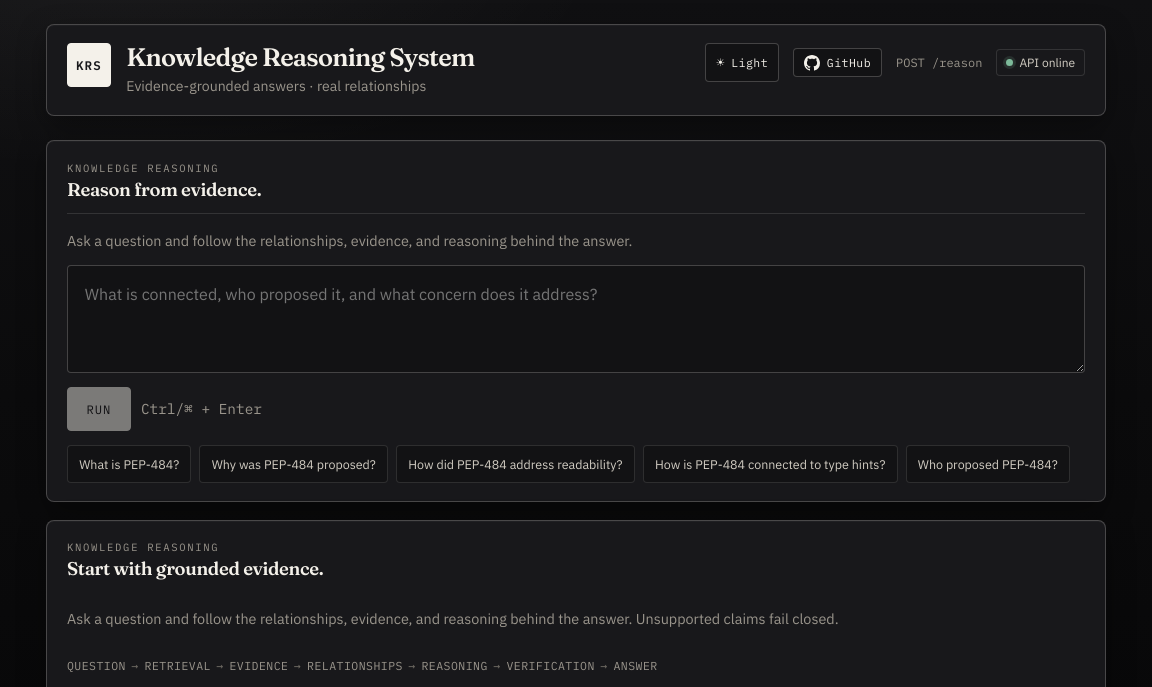
Knowledge Reasoning Web UI › A: successful grounded answer
Replace the text in the text box named "Reasoning query" with "What is PEP-484?" at x=576, y=319, box [67,265,1085,373]
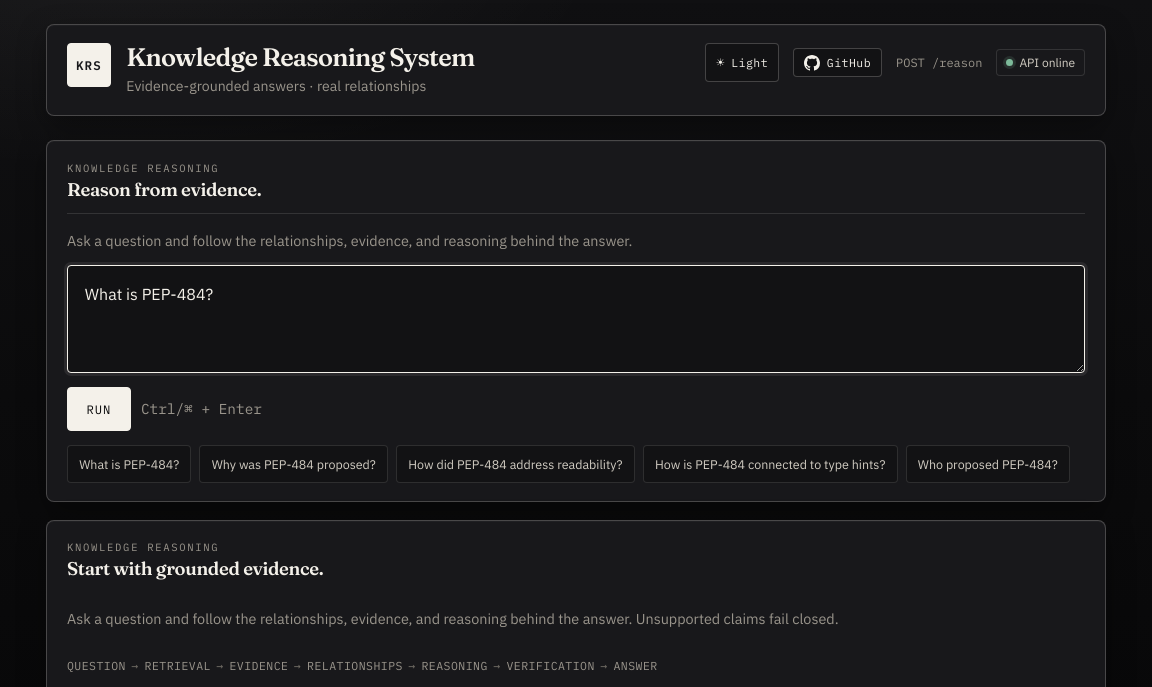
Click the button "Run" at x=99, y=409, box [67,387,131,431]
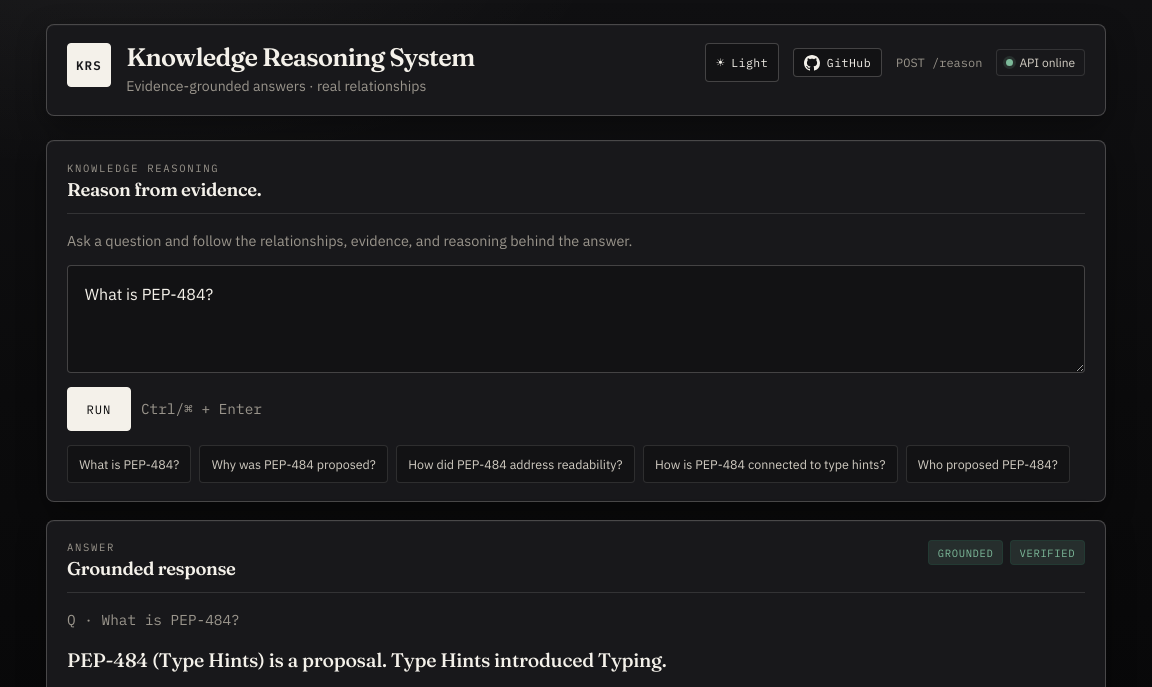
Expected: the heading "Grounded response" is shown, [67,557,236,580]
Expected: the text "PEP-484 (Type Hints) is a proposal" is shown, [67,648,666,672]
Expected: the text "Grounded" is shown, [928,540,1003,565]
